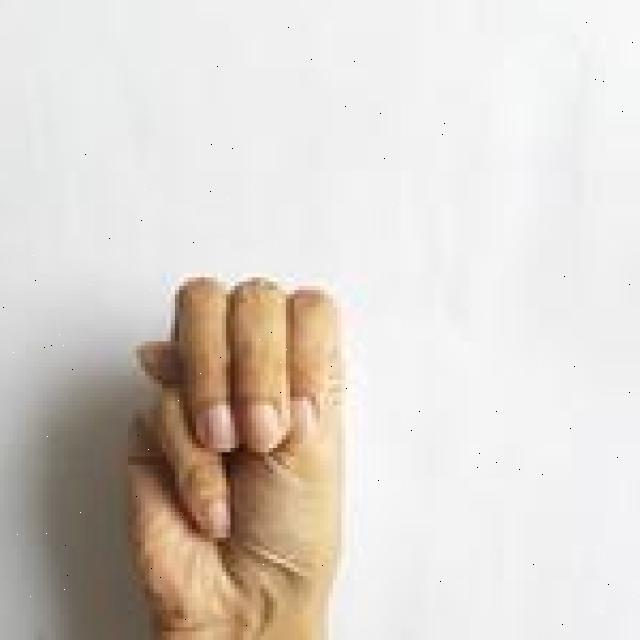M: (105, 265, 348, 640)
